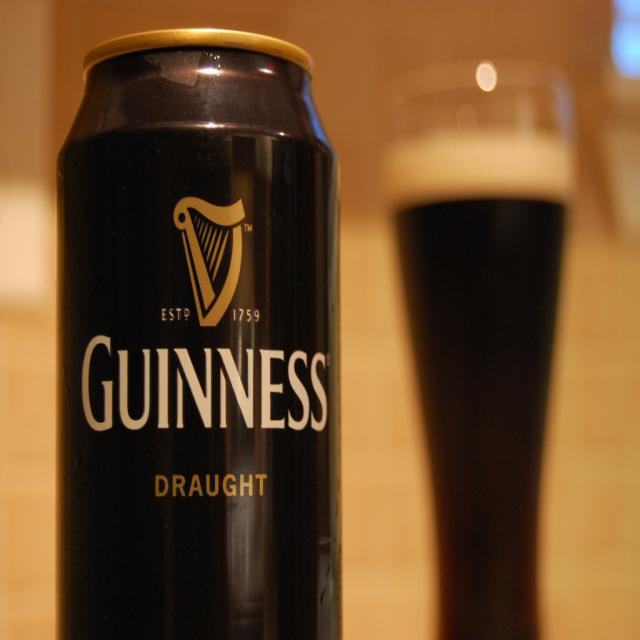guiness: (78, 189, 333, 439)
